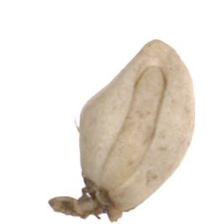L1: (76, 175, 127, 222), (132, 37, 182, 75)
L2: (76, 36, 196, 221)
